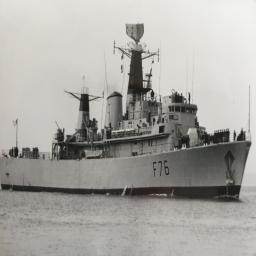Fragata: (1, 21, 254, 206)
